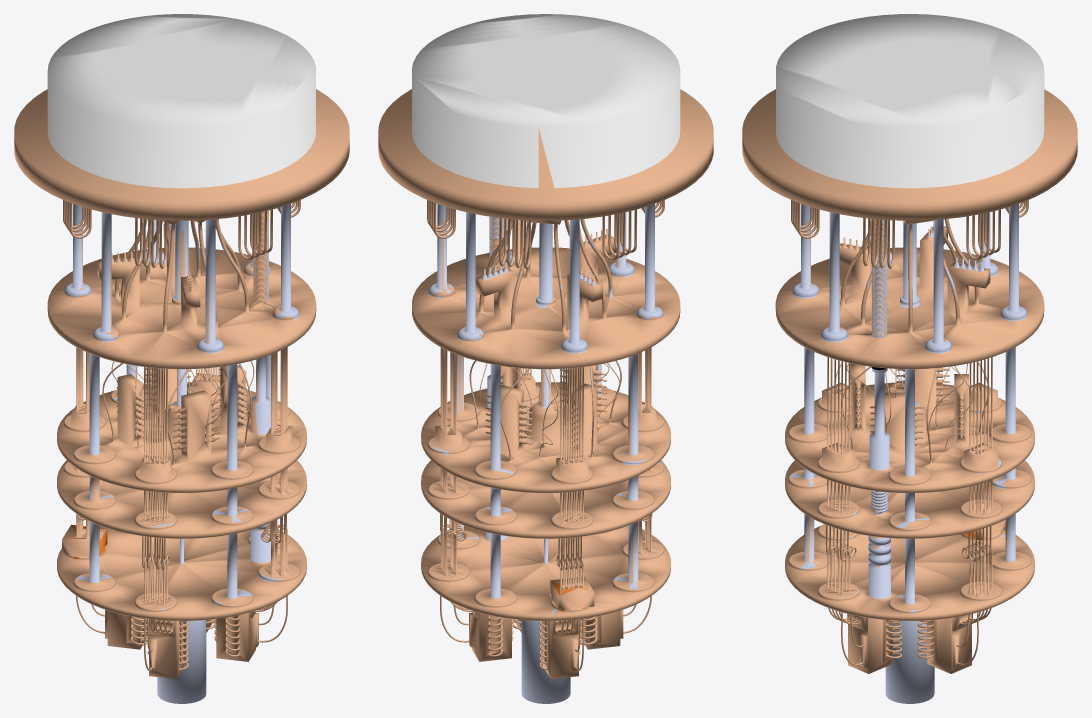
The model's file is Quantum Computer Unity FBX File.fbx.
The picture shows the model from 3 angles, left to right: view 1: azimuth 30°, elevation 25°; view 2: azimuth 150°, elevation 25°; view 3: azimuth 270°, elevation 25°; orthographic projection.
Parts seen in each view (by area): view 1: QC Assembly - Fixed STL; view 2: QC Assembly - Fixed STL; view 3: QC Assembly - Fixed STL.
Part boxes in pixels (x1,y1,x2,y2): QC Assembly - Fixed STL: (14,14,349,703); QC Assembly - Fixed STL: (378,14,713,703); QC Assembly - Fixed STL: (742,14,1077,703).
Bounding box in the file's own units: 1000 × 999 × 2047.
